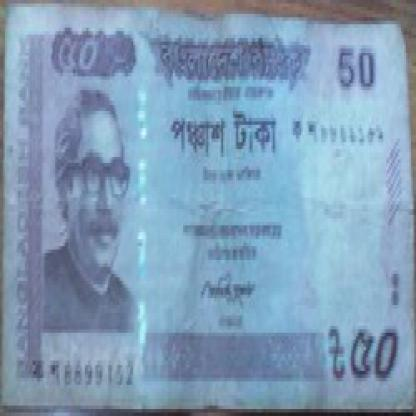Fifty taka: (321, 315, 406, 406), (52, 28, 103, 86)
